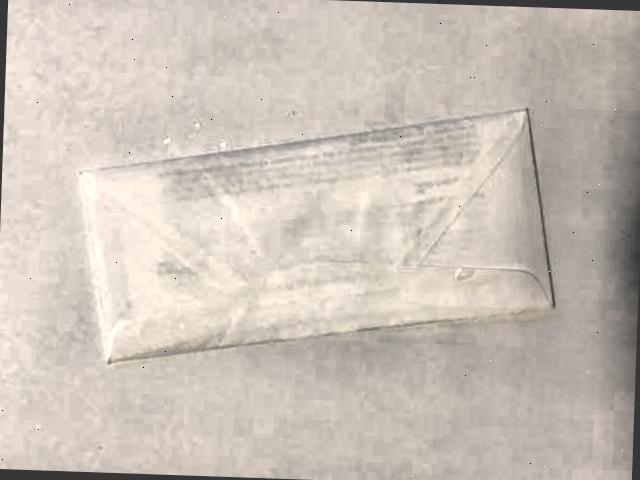Paper: (52, 83, 574, 415)
